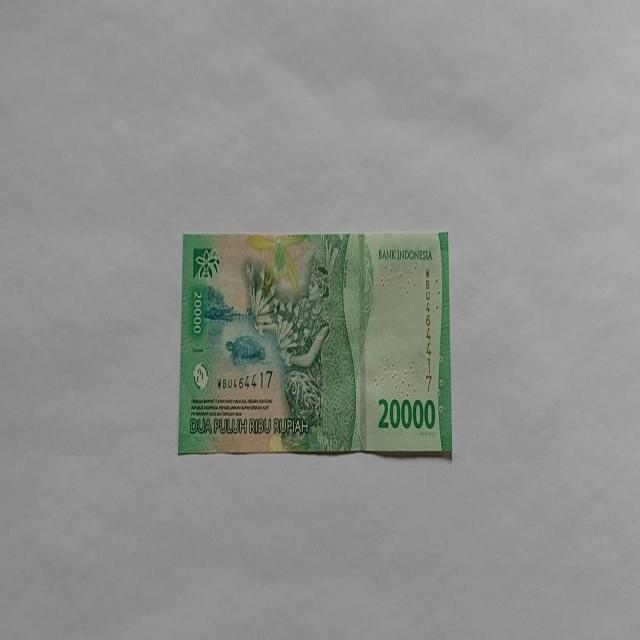dua puluh ribu rupiah: (178, 229, 452, 459), (244, 233, 373, 453)
